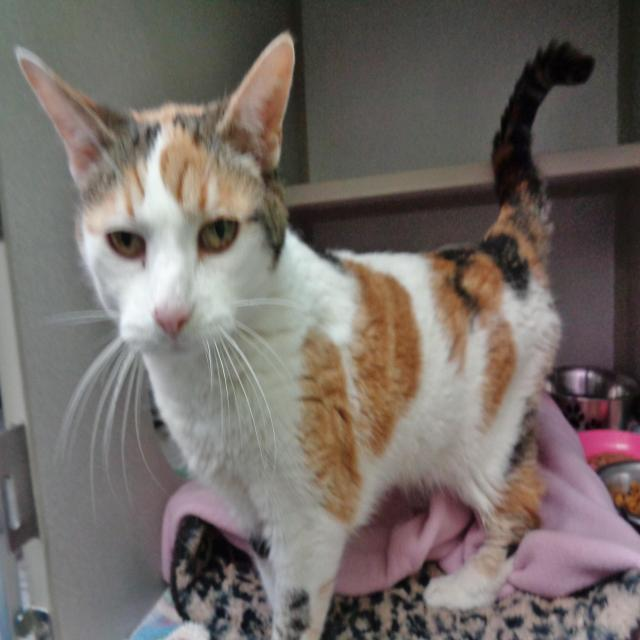calico_cat: (8, 24, 323, 391)
